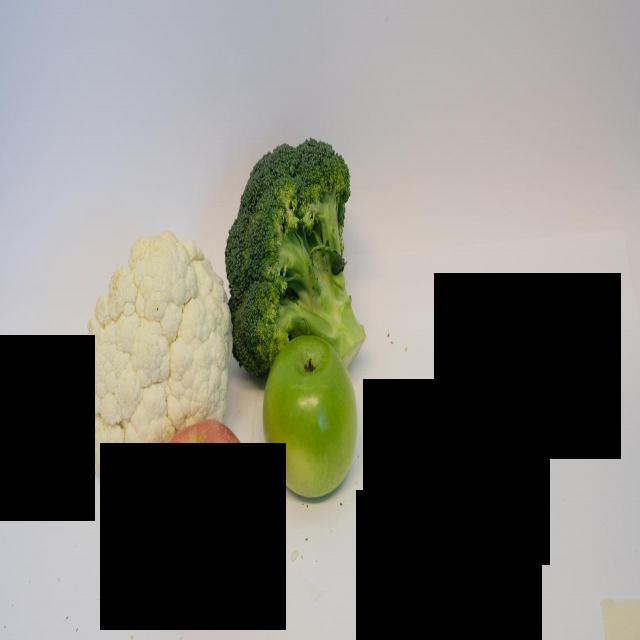apple: (151, 414, 259, 594), (258, 329, 360, 498)
broccoli: (227, 136, 367, 377)
cauliflower: (72, 227, 235, 482)
